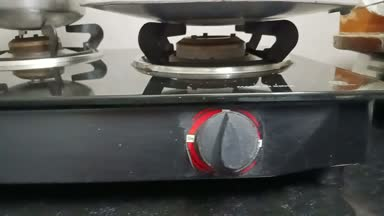noflame_gason: (134, 20, 315, 181)
